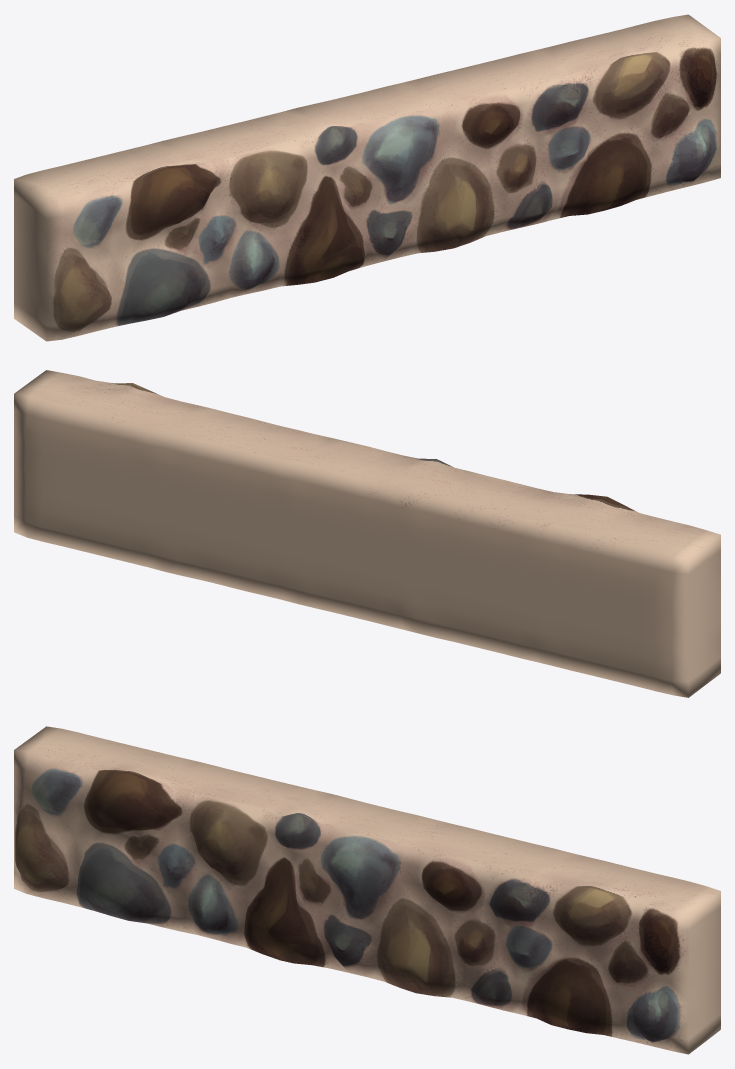
The model's file is CobbleWall.fbx.
The picture shows the model from 3 angles, top to bottom: view 1: azimuth 30°, elevation 25°; view 2: azimuth 150°, elevation 25°; view 3: azimuth 330°, elevation 25°; orthographic projection.
Parts seen in each view (by area): view 1: CobbleWall; view 2: CobbleWall; view 3: CobbleWall.
Part boxes in pixels (<box>): CobbleWall: <box>14,14,720,341</box>; CobbleWall: <box>14,370,720,697</box>; CobbleWall: <box>14,726,720,1054</box>.
Size of the model in its own units: 83.18 by 17.8 by 10.36.
1 material, 1 textured.
